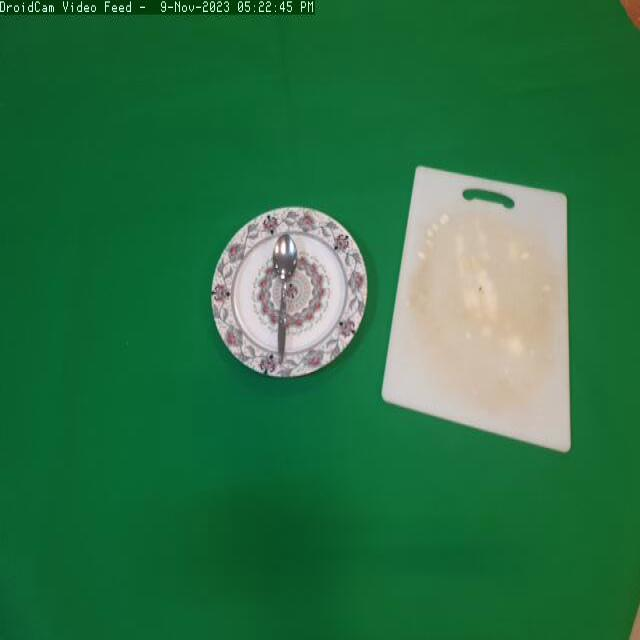cutting board: (382, 157, 589, 466)
plate: (212, 204, 372, 397)
spoon: (268, 224, 302, 370)
